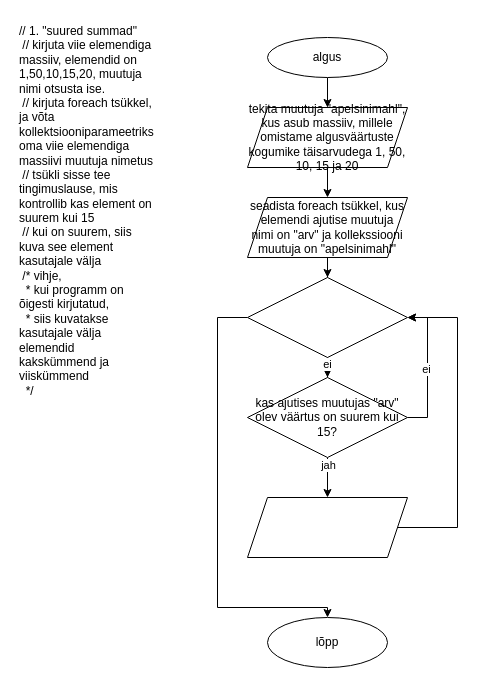
This 483x685 diagram has some shape labels left out. The centre of each missing label's shape, as x and y in pixels:
kas eelmine element on kollekstioonis viimane element?: the point at 327,317
kuva kasutajale muutuja "arv": the point at 327,527
